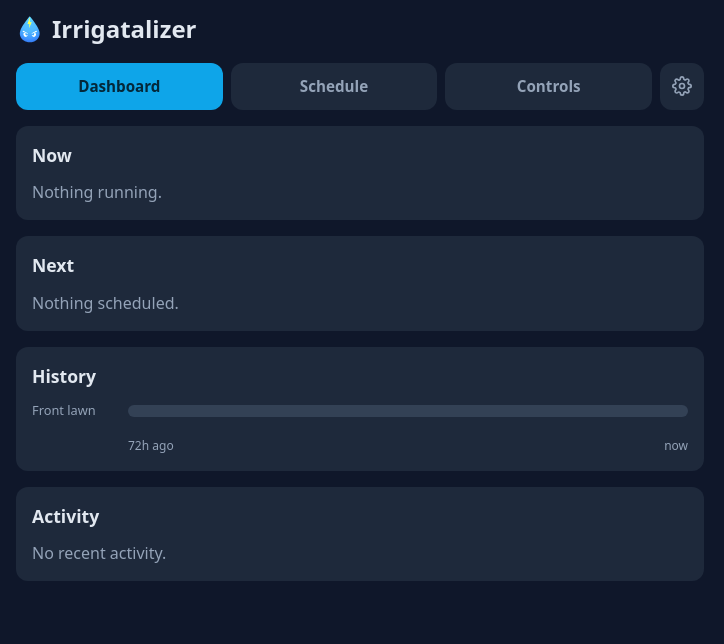
Test: App › opens the Settings tab, showing circuit setup and the timezone picker
Click the button named "Settings".
click(682, 86)  # box [660, 63, 704, 110]
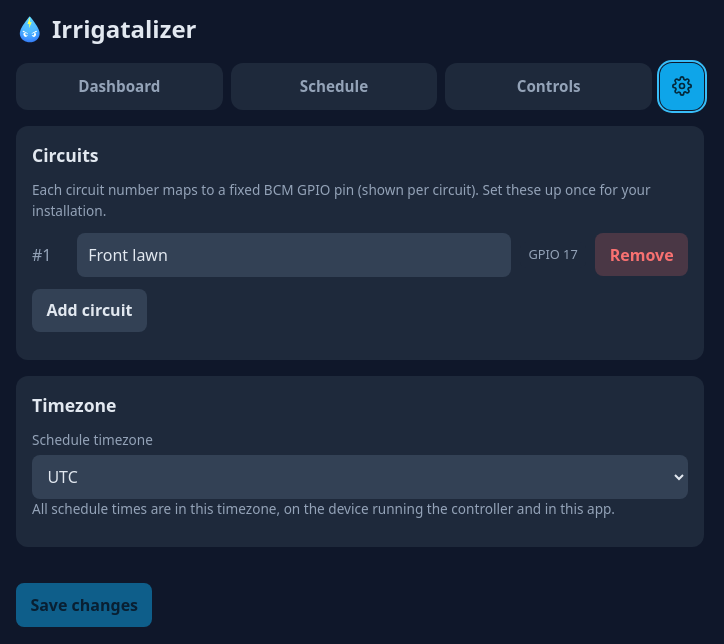
Check: the field named "Name for circuit 1" is shown, box [77, 233, 511, 277]
Check: the dropdown labelled "Schedule timezone" is shown, box [32, 455, 688, 499]
